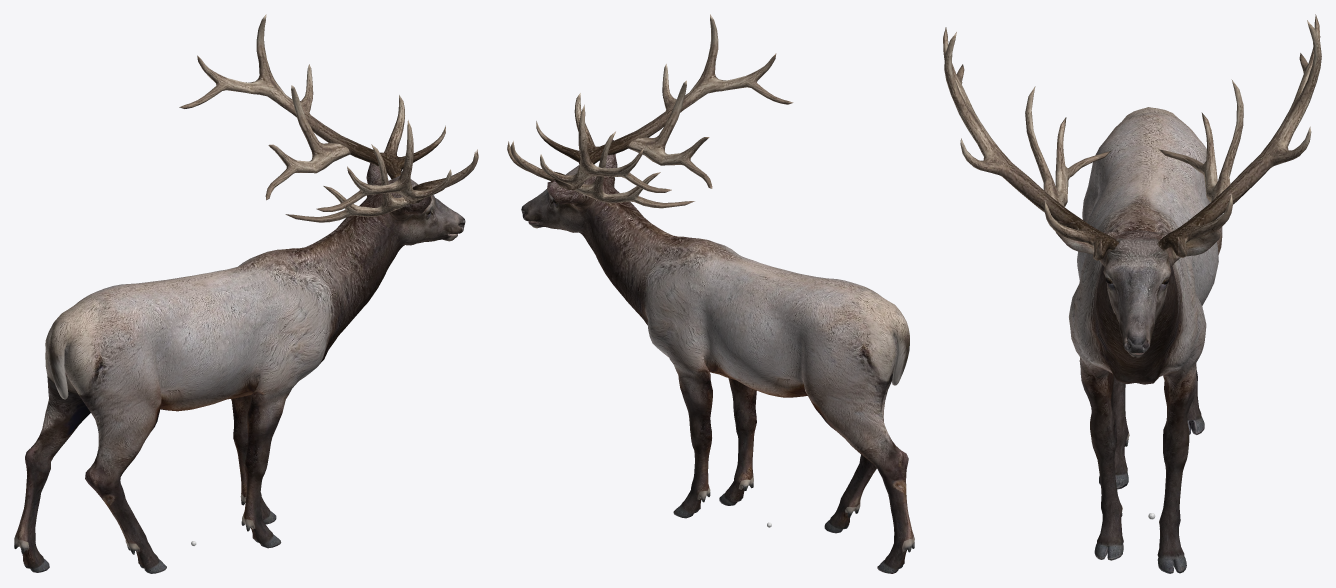
The model's file is animal-deer-001.glb.
3 views of the same model, side by side, from view 1: azimuth 30°, elevation 25°; view 2: azimuth 150°, elevation 25°; view 3: azimuth 270°, elevation 25° (orthographic). The views are drawn at different scales.
Parts seen in each view (by area): view 1: Realistic Deer Mesh Part 4, Realistic Deer Mesh Part 2, Realistic Deer Mesh Part 1; view 2: Realistic Deer Mesh Part 4, Realistic Deer Mesh Part 2, Realistic Deer Mesh Part 1; view 3: Realistic Deer Mesh Part 4, Realistic Deer Mesh Part 2, Realistic Deer Mesh Part 1.
Boxes of the visible parts, box(x1,y1,x2,y2) form: Realistic Deer Mesh Part 4: box(14, 163, 465, 573); Realistic Deer Mesh Part 2: box(179, 14, 478, 211); Realistic Deer Mesh Part 1: box(265, 85, 410, 222); Realistic Deer Mesh Part 4: box(521, 140, 914, 573); Realistic Deer Mesh Part 2: box(507, 14, 793, 192); Realistic Deer Mesh Part 1: box(574, 80, 712, 208); Realistic Deer Mesh Part 4: box(1055, 107, 1222, 573); Realistic Deer Mesh Part 2: box(943, 14, 1321, 260); Realistic Deer Mesh Part 1: box(1025, 79, 1243, 206).
Size of the model in its own units: 1.85 by 1.88 by 1.11.
2 materials, 2 textured.
